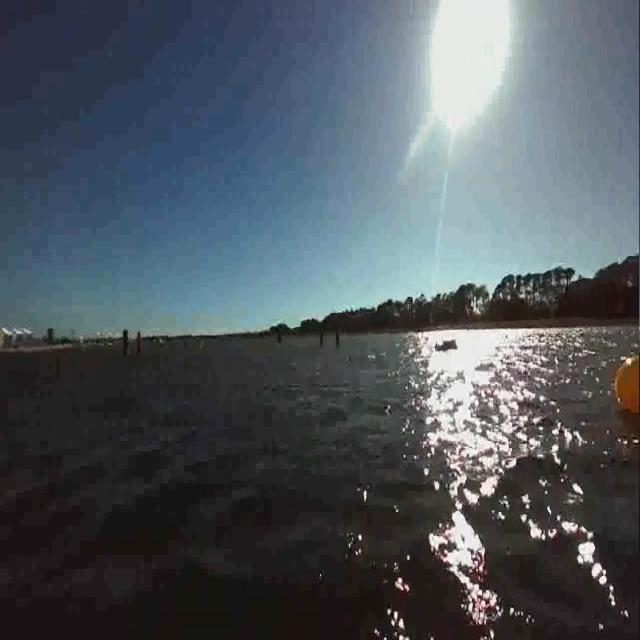green-column-buoy: (120, 329, 130, 358)
red-column-buoy: (136, 332, 144, 357)
